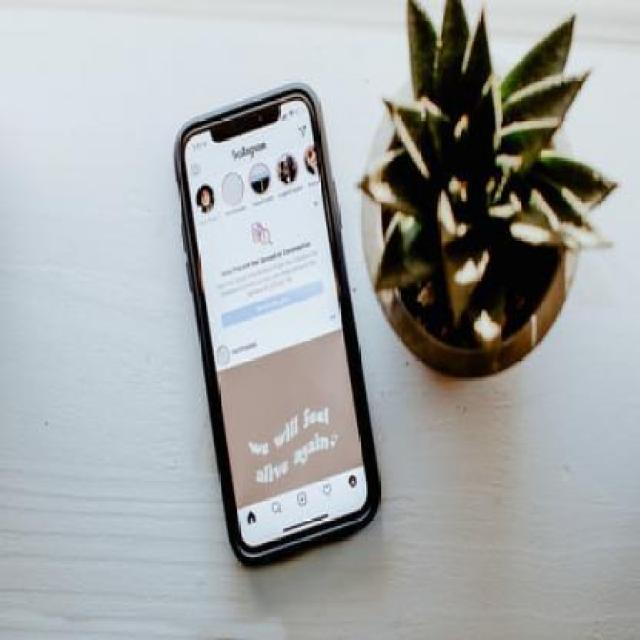mobile-phone: (168, 76, 383, 558)
